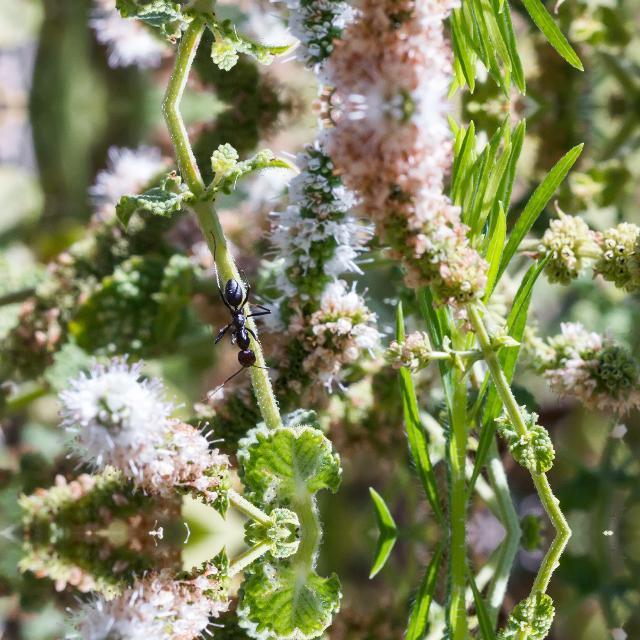Cataglyphis: (200, 266, 288, 376)
